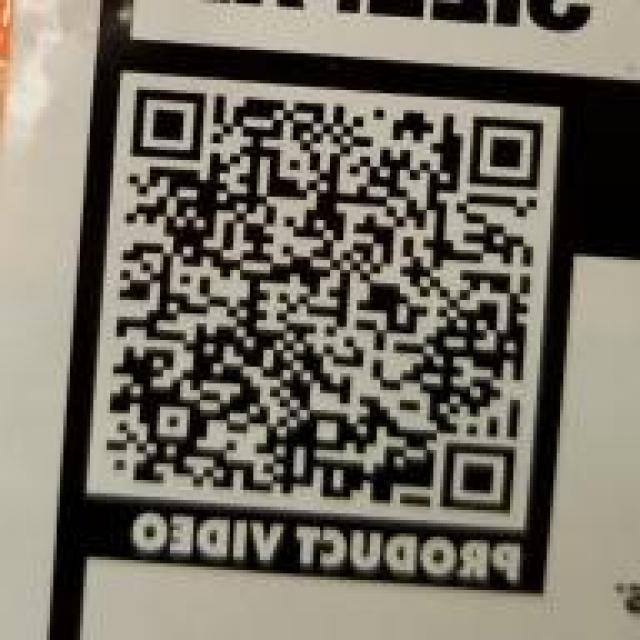qr_code: (107, 89, 543, 512)
